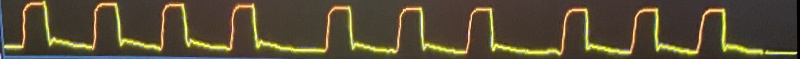normal_pressure: (0, 0, 771, 59)
